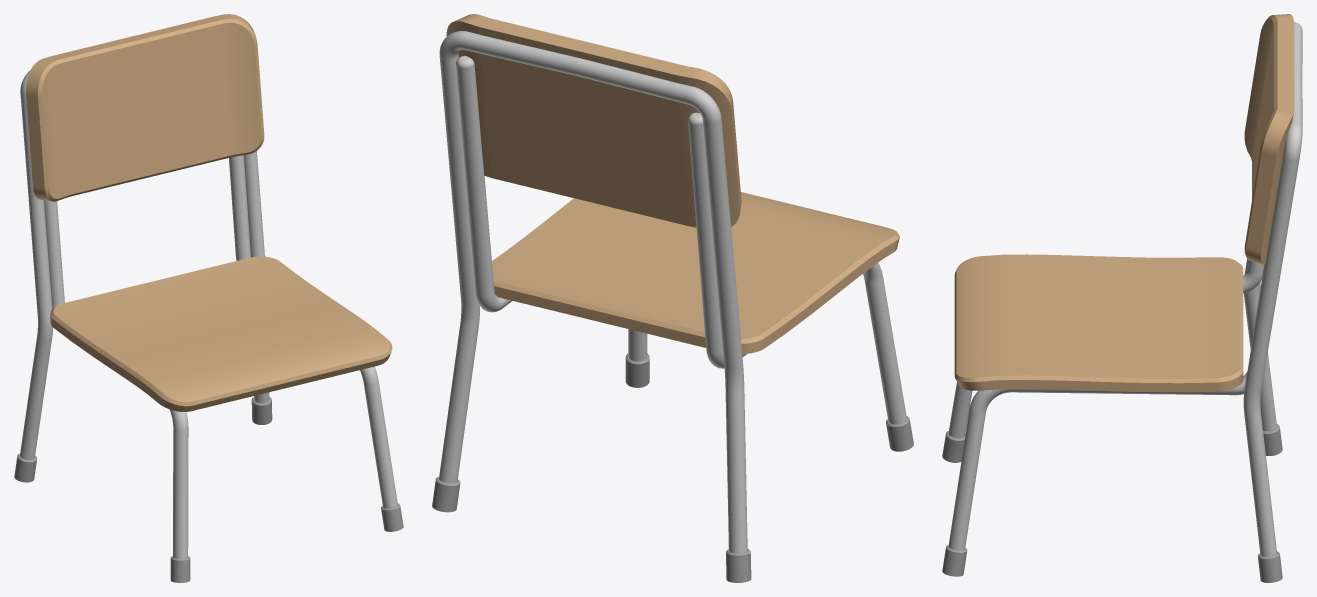
The model's file is 710_school_chair_S.glb.
The picture shows the model from 3 angles, left to right: view 1: azimuth 30°, elevation 25°; view 2: azimuth 150°, elevation 25°; view 3: azimuth 270°, elevation 25°; orthographic projection. The views are drawn at different scales.
Visible parts, largest first — view 1: Body; view 2: Body; view 3: Body.
Boxes of the visible parts, <box> form: Body: <box>14,14,403,582</box>; Body: <box>432,14,913,582</box>; Body: <box>942,14,1302,582</box>.
Bounding box in the file's own units: 0.4833 × 0.7396 × 0.5338.
